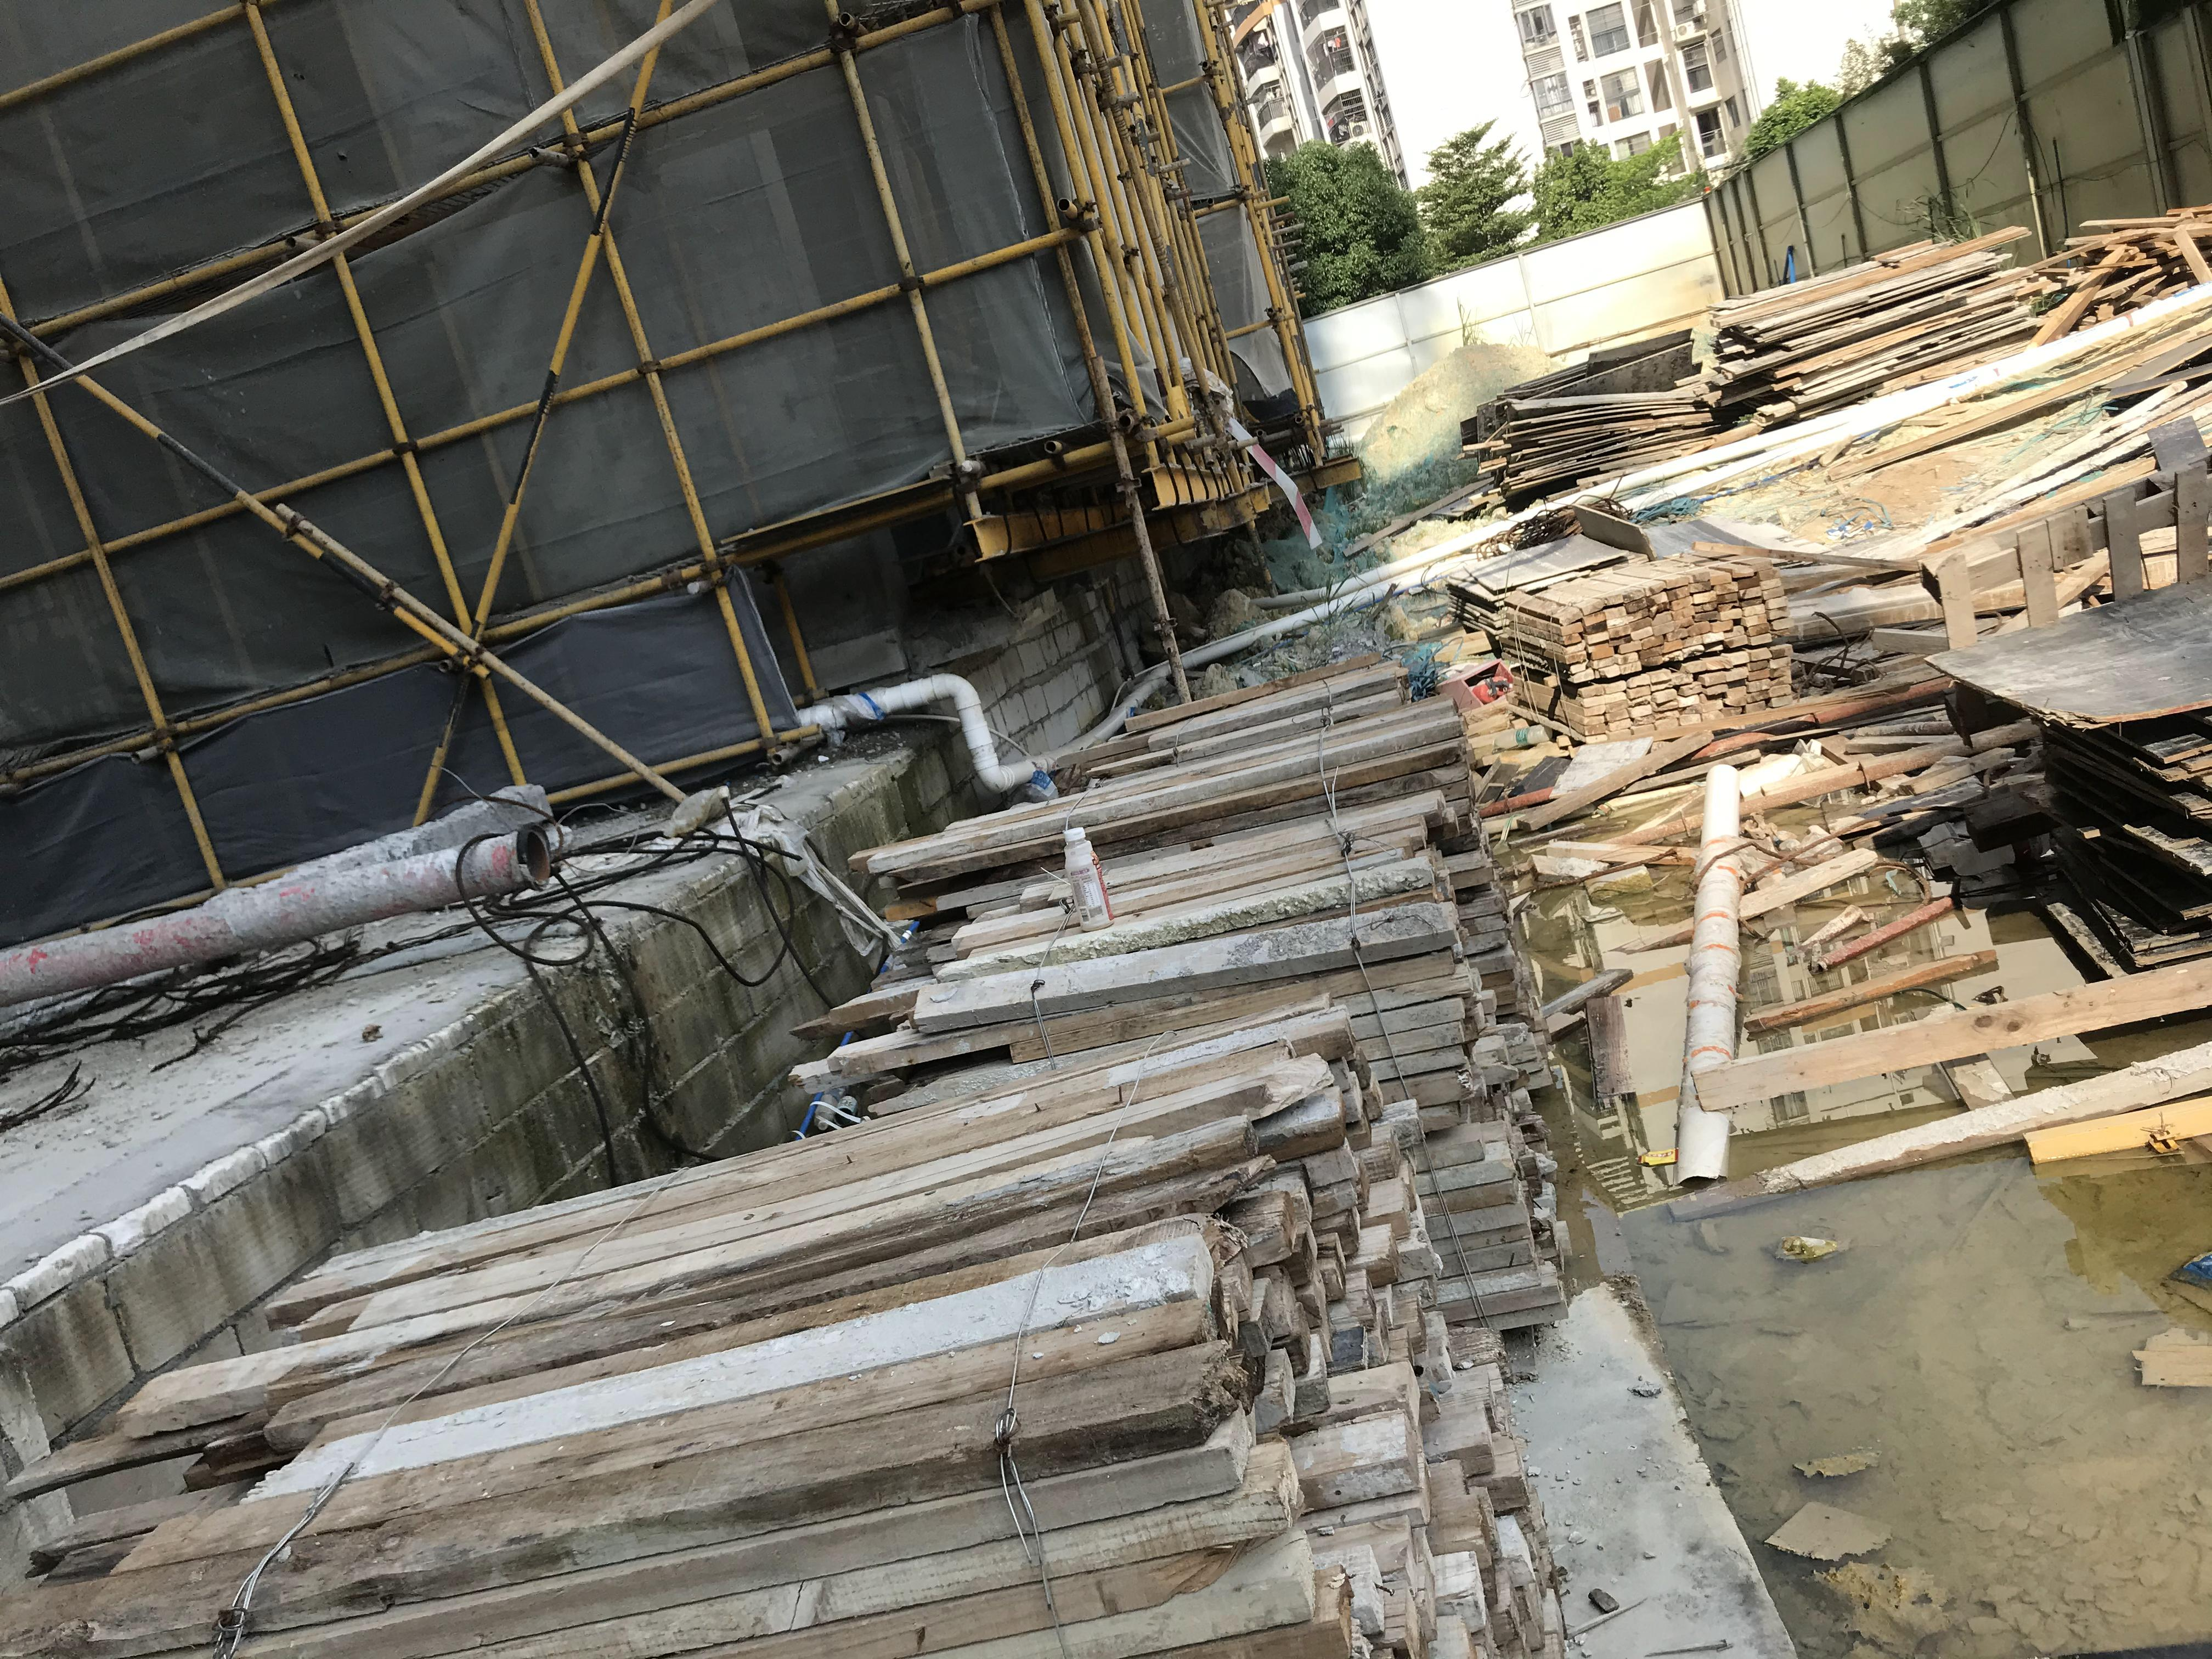board: (1921, 570, 2212, 981), (1698, 221, 2048, 427), (1470, 390, 1717, 498), (1444, 530, 1648, 638)
wood: (0, 999, 1533, 1656), (787, 652, 1569, 1337), (1496, 559, 1792, 755)
